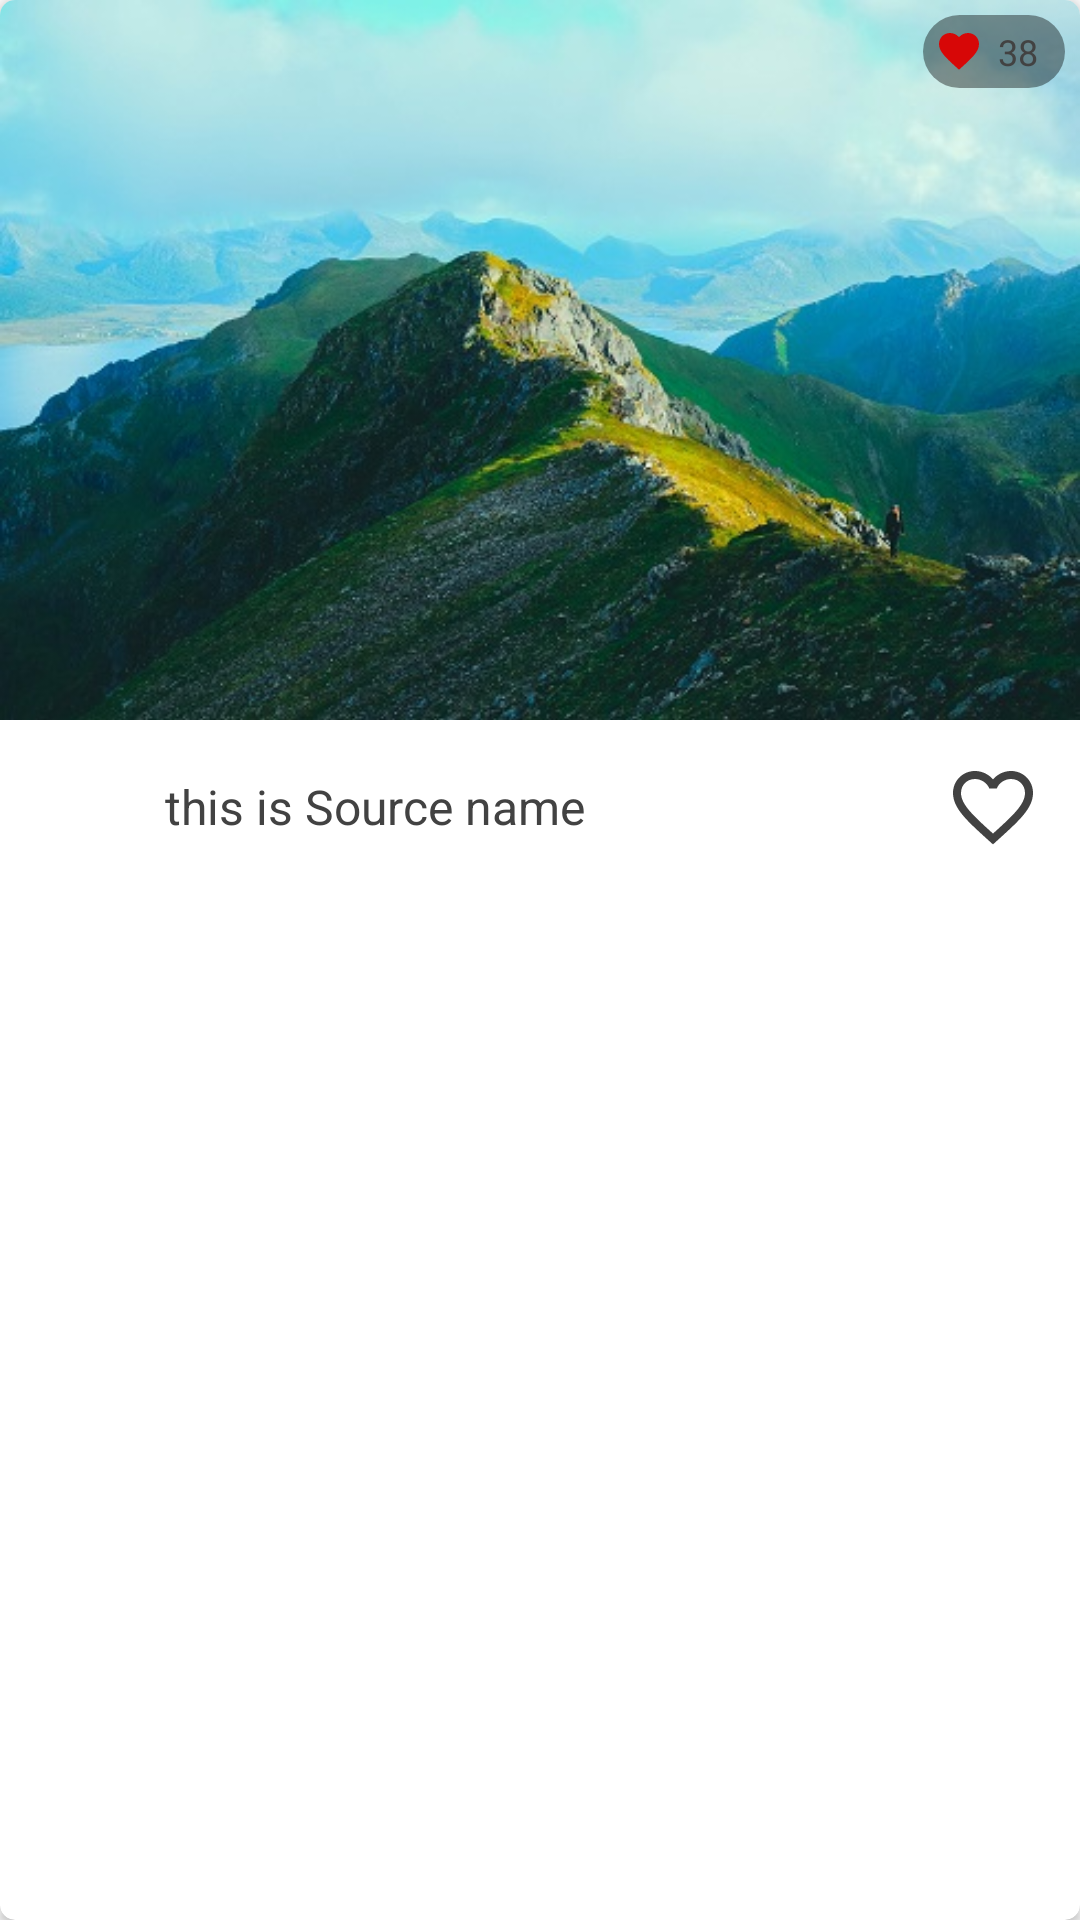

Icon bounding boxes for this 1080 × 1920 phone screenshot, format region(x1, y1, x2, y2):
favorite: region(939, 33, 979, 70)
favorite border: region(953, 771, 1033, 844)
